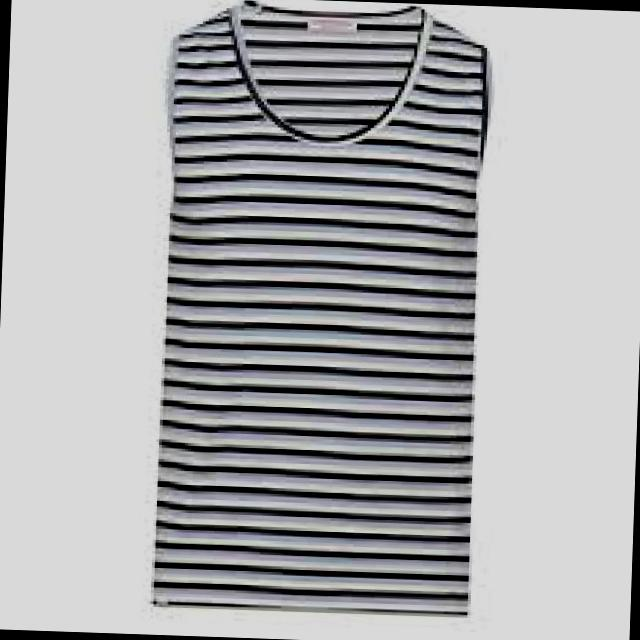no_vest: (145, 0, 494, 619)
